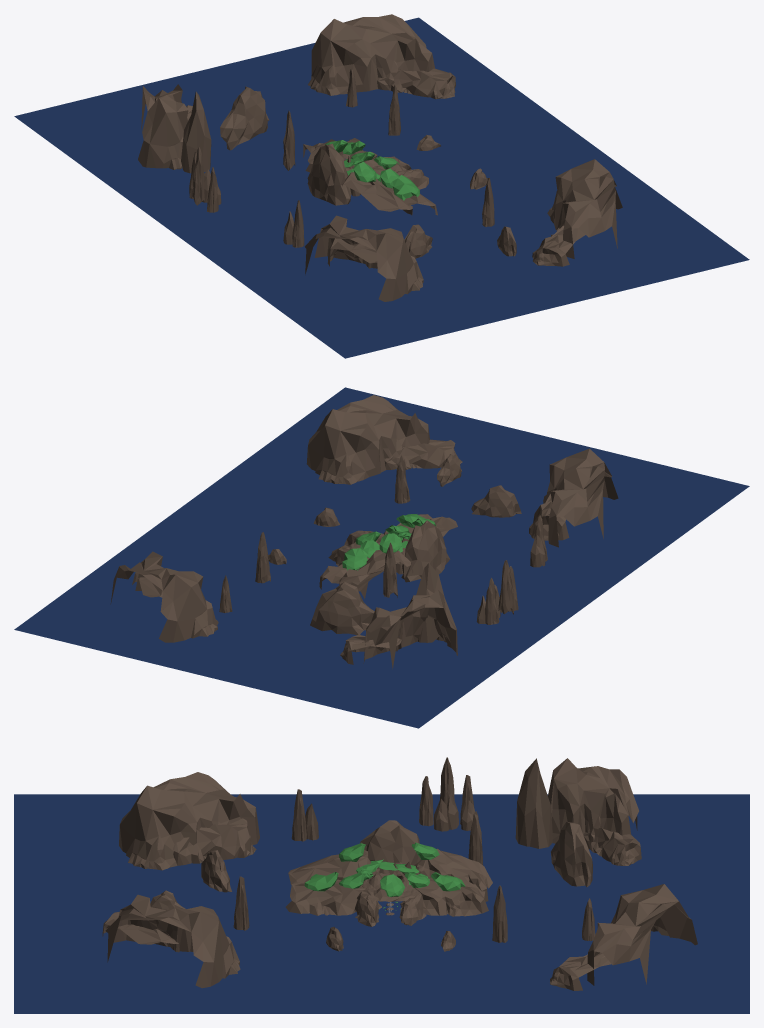
Rendered from Tree Hollow.glb.
The picture shows the model from 3 angles, top to bottom: view 1: azimuth 30°, elevation 25°; view 2: azimuth 150°, elevation 25°; view 3: azimuth 270°, elevation 25°; orthographic projection. The views are drawn at different scales.
Visible parts, largest first — view 1: lake, 棱角球.108, 棱角球.126, 棱角球.127, 棱角球.125, 棱角球.146, 棱角球.113, 棱角球.149, 棱角球.100, 棱角球.084, 棱角球.121, 棱角球.147 (+7 smaller); view 2: lake, 棱角球.100, 棱角球.146, 棱角球.107, 棱角球.124, 棱角球.108, 棱角球.149, 棱角球.127, 棱角球.116, 棱角球.106, 棱角球.105, 棱角球.148 (+7 smaller); view 3: lake, 棱角球.127, 棱角球.121, 棱角球.100, 棱角球.108, 棱角球.099, 棱角球.116, 棱角球.146, 棱角球.114, 棱角球.149, 棱角球.105, 棱角球.098 (+29 smaller).
Part boxes in pixels (<box>): lake: <box>14,17,749,358</box>; 棱角球.108: <box>556,159,617,248</box>; 棱角球.126: <box>317,39,377,95</box>; 棱角球.127: <box>320,14,426,49</box>; 棱角球.125: <box>362,38,434,88</box>; 棱角球.146: <box>220,86,269,150</box>; 棱角球.113: <box>138,112,182,169</box>; 棱角球.149: <box>307,143,351,205</box>; 棱角球.100: <box>305,215,403,274</box>; 棱角球.084: <box>378,239,423,301</box>; 棱角球.121: <box>181,91,211,173</box>; 棱角球.147: <box>342,172,412,215</box>; lake: <box>14,387,749,728</box>; 棱角球.100: <box>550,448,611,538</box>; 棱角球.146: <box>310,582,374,634</box>; 棱角球.107: <box>334,423,386,484</box>; 棱角球.124: <box>159,583,217,642</box>; 棱角球.108: <box>316,395,412,435</box>; 棱角球.149: <box>401,520,450,582</box>; 棱角球.127: <box>110,551,202,611</box>; 棱角球.116: <box>367,590,447,669</box>; 棱角球.106: <box>368,413,429,466</box>; 棱角球.105: <box>306,425,339,483</box>; 棱角球.148: <box>339,550,413,598</box>; lake: <box>14,794,749,1013</box>; 棱角球.127: <box>594,884,689,984</box>; 棱角球.121: <box>515,758,552,848</box>; 棱角球.100: <box>131,772,236,816</box>; 棱角球.108: <box>105,894,218,962</box>; 棱角球.099: <box>144,803,198,870</box>; 棱角球.116: <box>553,758,638,830</box>; 棱角球.146: <box>550,821,592,886</box>; 棱角球.114: <box>577,784,631,845</box>; 棱角球.149: <box>360,820,420,868</box>; 棱角球.105: <box>194,917,240,988</box>; 棱角球.098: <box>185,794,259,844</box>.
Bounding box in the file's own units: 642 × 146 × 909.
